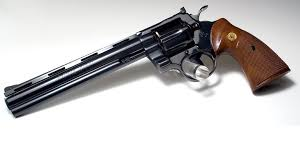gun: (3, 4, 291, 118)
